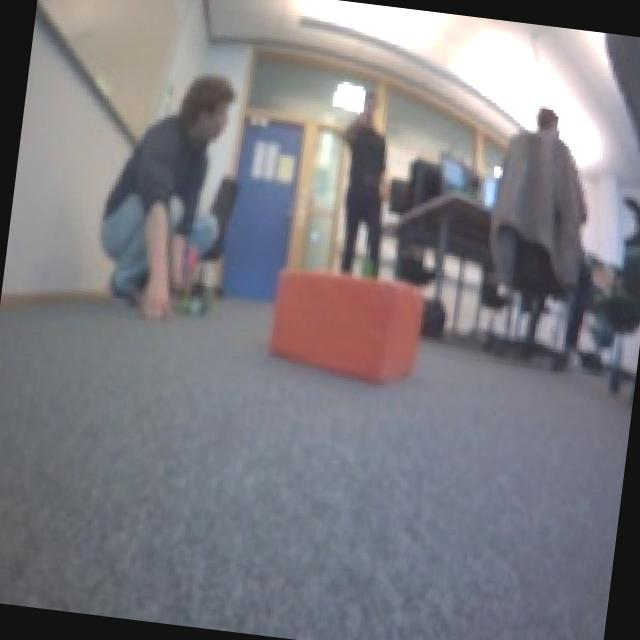robot: (164, 268, 217, 322)
target: (262, 259, 429, 386)
